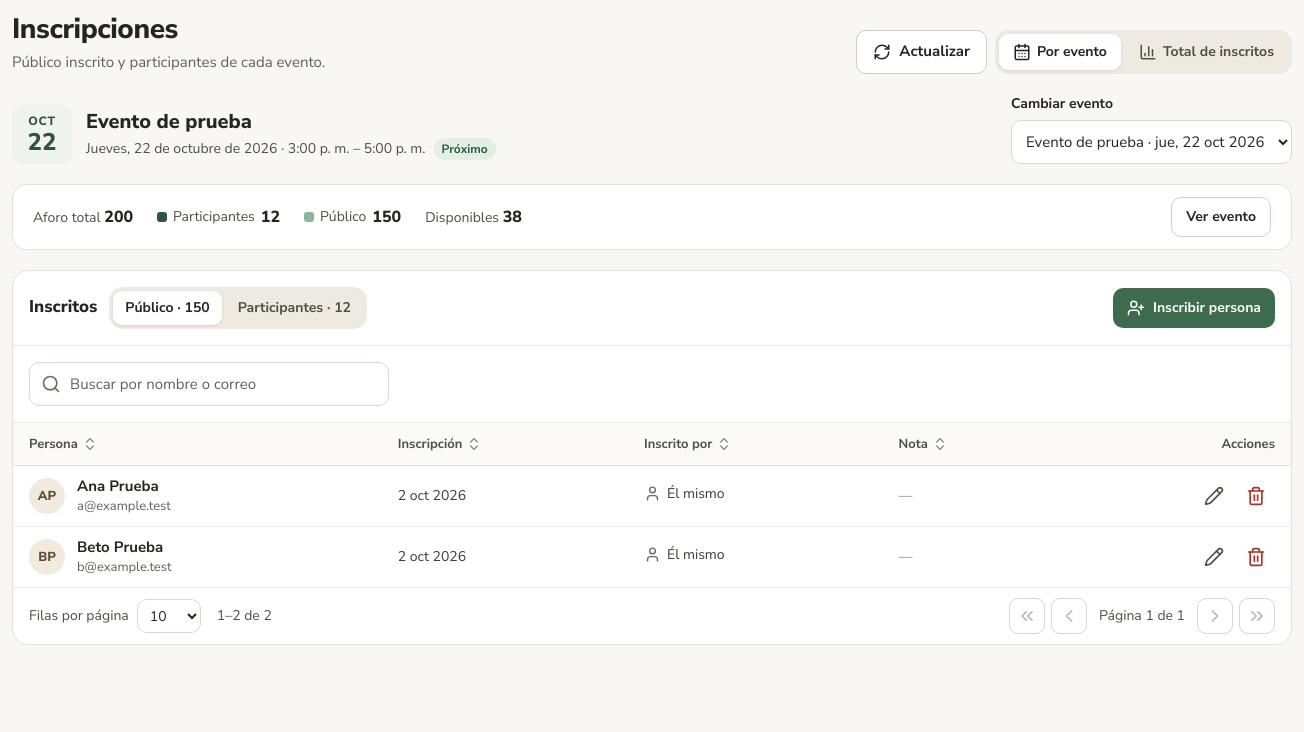
Test case: AdminRegistrationsPage · Por evento › busca por nombre o correo y explica cuando nadie coincide
Check: the text "Ana Prueba" is shown, box [77,476,171,498]
Type "b@example" into the search field named "Buscar inscritos" at (209, 384), box [29,362,389,406]
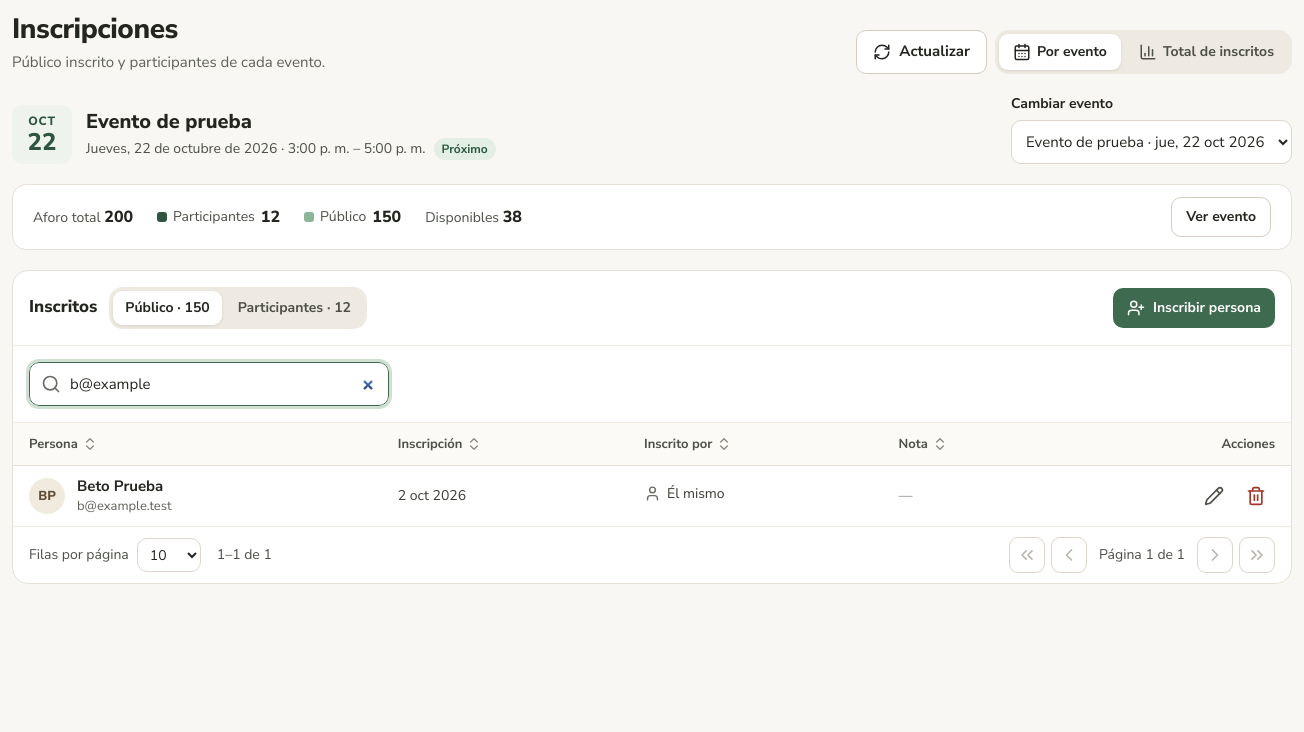
Check: the text "Beto Prueba" is shown, box [77,476,172,498]
Check: the text "Ana Prueba" is gone
Replace the text in the search field named "Buscar inscritos" with "zzz" at (209, 384), box [29,362,389,406]
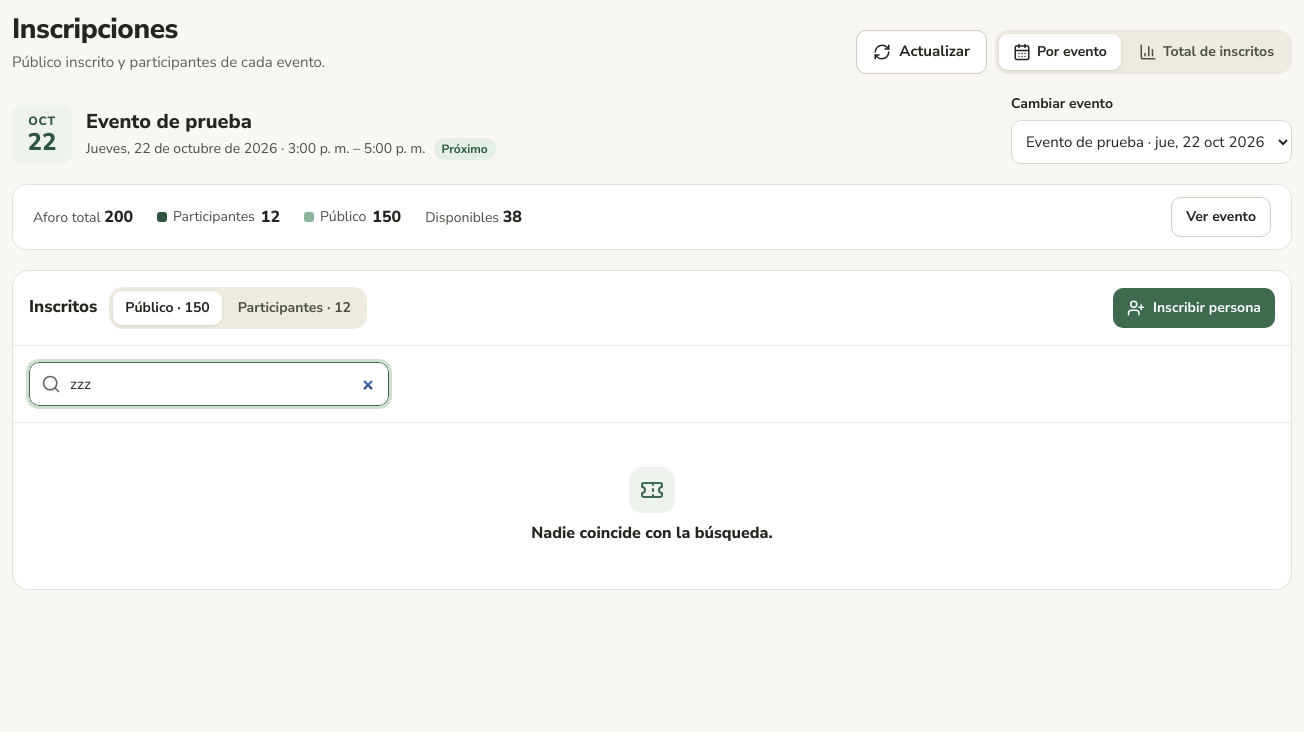
Check: the text "Nadie coincide con la búsqueda." is shown, box [531,520,773,544]
